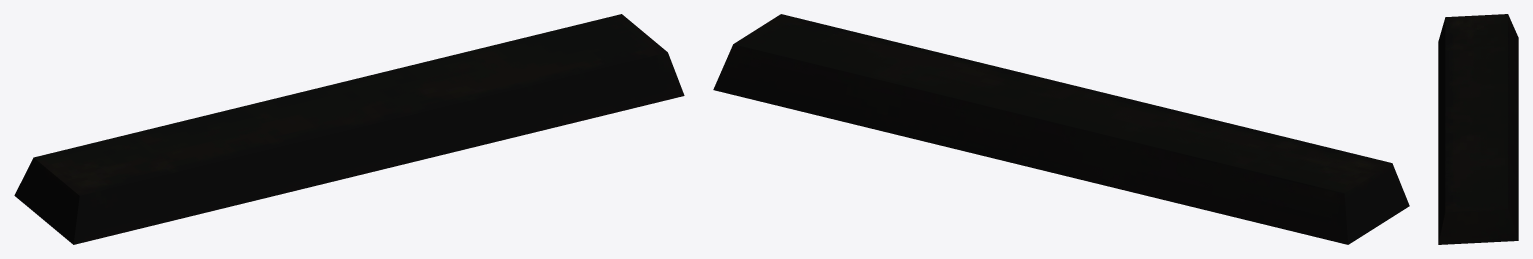
Rendered from link_89__key-95.glb.
3 renders of one model, left to right at view 1: azimuth 30°, elevation 25°; view 2: azimuth 150°, elevation 25°; view 3: azimuth 270°, elevation 25°, orthographic. The views are drawn at different scales.
Parts seen in each view (by area): view 1: world; view 2: world; view 3: world.
Boxes of the visible parts, bbox=[...] form: world: bbox=[14, 14, 684, 244]; world: bbox=[713, 14, 1409, 244]; world: bbox=[1438, 14, 1518, 244].
Bounding box in the file's own units: 0.4277 × 0.0315 × 0.0718.
1 material, 1 textured.
